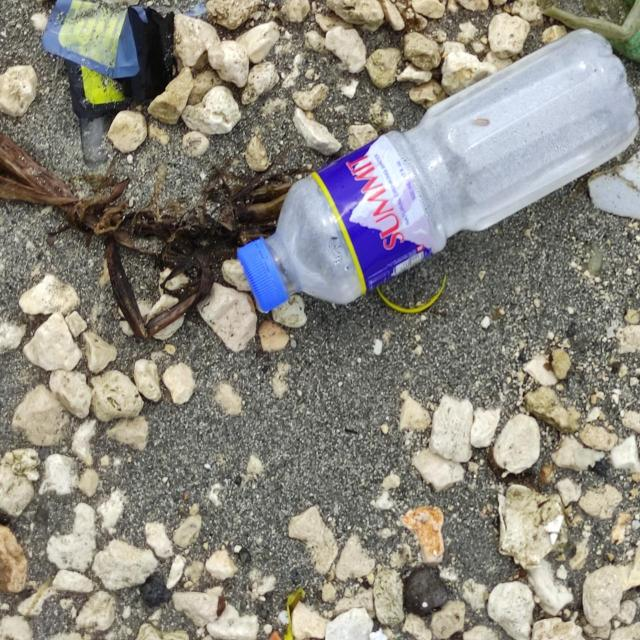plastic_waste: (237, 25, 638, 314), (37, 0, 175, 118)
